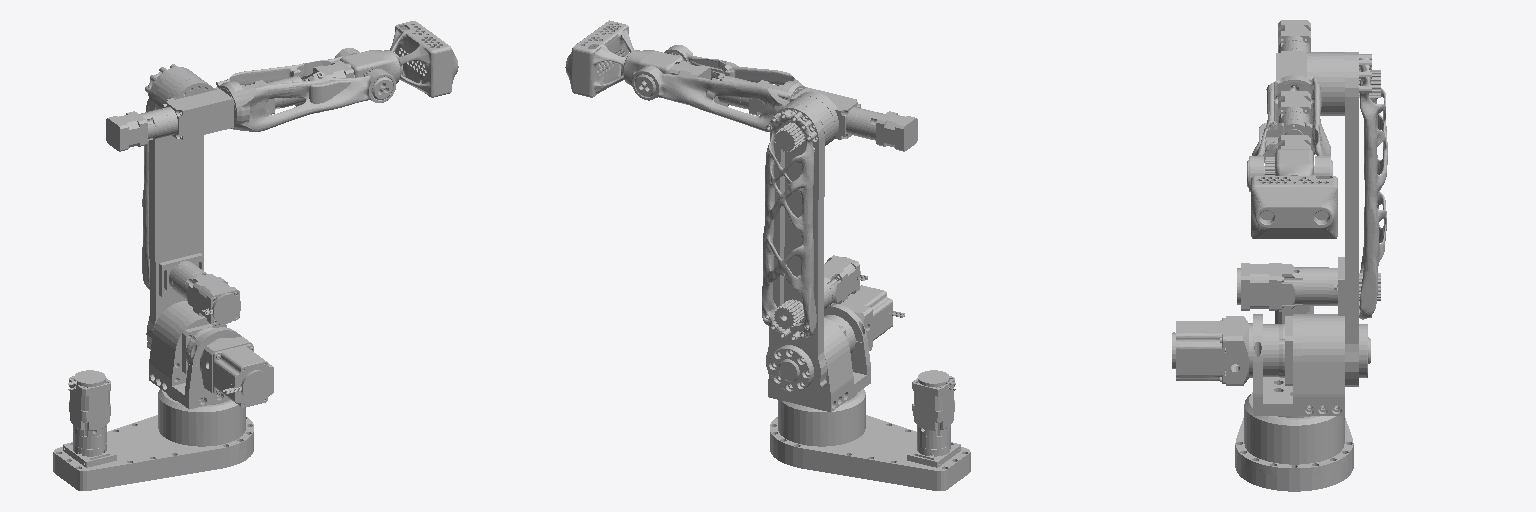
The robot description file, URDF, robot "camera_end_effector":
<?xml version="1.0" encoding="utf-8"?>
<!-- This URDF was automatically created by SolidWorks to URDF Exporter! Originally created by [author] ([email redacted]) 
     Commit Version: 1.6.0-4-g7f85cfe  Build Version: 1.6.7995.38578
     For more information, please see http://wiki.ros.org/sw_urdf_exporter -->
<robot
  name="camera_end_effector">
  <link
    name="base_link">
    <inertial>
      <origin
        xyz="-0.038799 0.039037 -5.6771E-08"
        rpy="0 0 0" />
      <mass
        value="4.037" />
      <inertia
        ixx="0.0047485"
        ixy="2.5452E-06"
        ixz="-6.9936E-08"
        iyy="0.015979"
        iyz="4.4737E-10"
        izz="0.01214" />
    </inertial>
    <visual>
      <origin
        xyz="0 0 0"
        rpy="0 0 0" />
      <geometry>
        <mesh
          filename="package://camera_end_effector/meshes/base_link.STL" />
      </geometry>
      <material
        name="">
        <color
          rgba="0.75294 0.75294 0.75294 1" />
      </material>
    </visual>
    <collision>
      <origin
        xyz="0 0 0"
        rpy="0 0 0" />
      <geometry>
        <mesh
          filename="package://camera_end_effector/meshes/base_link.STL" />
      </geometry>
    </collision>
  </link>
  <link
    name="j2">
    <inertial>
      <origin
        xyz="-0.021245 4.8231E-05 -0.10089"
        rpy="0 0 0" />
      <mass
        value="0.97731" />
      <inertia
        ixx="0.00070562"
        ixy="-1.9214E-07"
        ixz="2.8678E-06"
        iyy="0.00051951"
        iyz="3.1462E-07"
        izz="0.00067989" />
    </inertial>
    <visual>
      <origin
        xyz="0 0 0"
        rpy="0 0 0" />
      <geometry>
        <mesh
          filename="package://camera_end_effector/meshes/j2.STL" />
      </geometry>
      <material
        name="">
        <color
          rgba="0.75294 0.75294 0.75294 1" />
      </material>
    </visual>
    <collision>
      <origin
        xyz="0 0 0"
        rpy="0 0 0" />
      <geometry>
        <mesh
          filename="package://camera_end_effector/meshes/j2.STL" />
      </geometry>
    </collision>
  </link>
  <joint
    name="j2"
    type="revolute">
    <origin
      xyz="0 0 0.0059964"
      rpy="3.1416 0 1.5708" />
    <parent
      link="base_link" />
    <child
      link="j2" />
    <axis
      xyz="0 0 1" />
    <limit
      lower="1.57"
      upper="-1.57"
      effort="50"
      velocity="10" />
  </joint>
  <link
    name="j3">
    <inertial>
      <origin
        xyz="0.04498 -0.0012844 -0.12805"
        rpy="0 0 0" />
      <mass
        value="0.68518" />
      <inertia
        ixx="0.0044141"
        ixy="-1.7793E-07"
        ixz="-1.4273E-05"
        iyy="0.0041907"
        iyz="-3.7976E-05"
        izz="0.00033447" />
    </inertial>
    <visual>
      <origin
        xyz="0 0 0"
        rpy="0 0 0" />
      <geometry>
        <mesh
          filename="package://camera_end_effector/meshes/j3.STL" />
      </geometry>
      <material
        name="">
        <color
          rgba="0.75294 0.75294 0.75294 1" />
      </material>
    </visual>
    <collision>
      <origin
        xyz="0 0 0"
        rpy="0 0 0" />
      <geometry>
        <mesh
          filename="package://camera_end_effector/meshes/j3.STL" />
      </geometry>
    </collision>
  </link>
  <joint
    name="j3"
    type="revolute">
    <origin
      xyz="0 0 -0.134"
      rpy="0.0048055 0 0" />
    <parent
      link="j2" />
    <child
      link="j3" />
    <axis
      xyz="1 0 0" />
    <limit
      lower="1.57"
      upper="-1.57"
      effort="50"
      velocity="10" />
  </joint>
  <link
    name="j4">
    <inertial>
      <origin
        xyz="0.015213 -0.035076 1.974E-06"
        rpy="0 0 0" />
      <mass
        value="0.23302" />
      <inertia
        ixx="7.0267E-05"
        ixy="1.3165E-09"
        ixz="2.8292E-14"
        iyy="6.7939E-05"
        iyz="8.3323E-14"
        izz="6.51E-05" />
    </inertial>
    <visual>
      <origin
        xyz="0 0 0"
        rpy="0 0 0" />
      <geometry>
        <mesh
          filename="package://camera_end_effector/meshes/j4.STL" />
      </geometry>
      <material
        name="">
        <color
          rgba="0.75294 0.75294 0.75294 1" />
      </material>
    </visual>
    <collision>
      <origin
        xyz="0 0 0"
        rpy="0 0 0" />
      <geometry>
        <mesh
          filename="package://camera_end_effector/meshes/j4.STL" />
      </geometry>
    </collision>
  </link>
  <joint
    name="j4"
    type="revolute">
    <origin
      xyz="0 -0.0030947 -0.32199"
      rpy="-0.0048055 0 0" />
    <parent
      link="j3" />
    <child
      link="j4" />
    <axis
      xyz="1 0 0" />
    <limit
      lower="1.57"
      upper="-1.57"
      effort="50"
      velocity="10" />
  </joint>
  <link
    name="j5">
    <inertial>
      <origin
        xyz="-0.001844 0.10181 0.00027913"
        rpy="0 0 0" />
      <mass
        value="0.28259" />
      <inertia
        ixx="0.00065499"
        ixy="1.9322E-05"
        ixz="-1.3151E-06"
        iyy="0.00017713"
        iyz="8.4548E-07"
        izz="0.00074297" />
    </inertial>
    <visual>
      <origin
        xyz="0 0 0"
        rpy="0 0 0" />
      <geometry>
        <mesh
          filename="package://camera_end_effector/meshes/j5.STL" />
      </geometry>
      <material
        name="">
        <color
          rgba="0.75294 0.75294 0.75294 1" />
      </material>
    </visual>
    <collision>
      <origin
        xyz="0 0 0"
        rpy="0 0 0" />
      <geometry>
        <mesh
          filename="package://camera_end_effector/meshes/j5.STL" />
      </geometry>
    </collision>
  </link>
  <joint
    name="j5"
    type="revolute">
    <origin
      xyz="0 0 0"
      rpy="0 0 0" />
    <parent
      link="j4" />
    <child
      link="j5" />
    <axis
      xyz="0 1 0" />
    <limit
      lower="1.57"
      upper="-1.57"
      effort="50"
      velocity="10" />
  </joint>
  <link
    name="j6">
    <inertial>
      <origin
        xyz="-0.0013063 -0.0093348 -1.0804E-05"
        rpy="0 0 0" />
      <mass
        value="0.15216" />
      <inertia
        ixx="3.7125E-05"
        ixy="-1.2877E-06"
        ixz="5.119E-09"
        iyy="4.1674E-05"
        iyz="4.97E-08"
        izz="4.2099E-05" />
    </inertial>
    <visual>
      <origin
        xyz="0 0 0"
        rpy="0 0 0" />
      <geometry>
        <mesh
          filename="package://camera_end_effector/meshes/j6.STL" />
      </geometry>
      <material
        name="">
        <color
          rgba="0.75294 0.75294 0.75294 1" />
      </material>
    </visual>
    <collision>
      <origin
        xyz="0 0 0"
        rpy="0 0 0" />
      <geometry>
        <mesh
          filename="package://camera_end_effector/meshes/j6.STL" />
      </geometry>
    </collision>
  </link>
  <joint
    name="j6"
    type="revolute">
    <origin
      xyz="0 0.23275 0"
      rpy="0 0 0" />
    <parent
      link="j5" />
    <child
      link="j6" />
    <axis
      xyz="1 0 0" />
    <limit
      lower="1.57"
      upper="-1.57"
      effort="50"
      velocity="10" />
  </joint>
  <link
    name="endeff">
    <inertial>
      <origin
        xyz="1.5444E-06 0.056892 -0.00079142"
        rpy="0 0 0" />
      <mass
        value="0.10798" />
      <inertia
        ixx="6.8661E-05"
        ixy="2.9596E-08"
        ixz="-3.5618E-07"
        iyy="0.00011054"
        iyz="5.6337E-07"
        izz="0.00010565" />
    </inertial>
    <visual>
      <origin
        xyz="0 0 0"
        rpy="0 0 0" />
      <geometry>
        <mesh
          filename="package://camera_end_effector/meshes/endeff.STL" />
      </geometry>
      <material
        name="">
        <color
          rgba="0.75294 0.75294 0.75294 1" />
      </material>
    </visual>
    <collision>
      <origin
        xyz="0 0 0"
        rpy="0 0 0" />
      <geometry>
        <mesh
          filename="package://camera_end_effector/meshes/endeff.STL" />
      </geometry>
    </collision>
  </link>
  <joint
    name="endeff"
    type="revolute">
    <origin
      xyz="0 0.02775 0"
      rpy="0 0 0" />
    <parent
      link="j6" />
    <child
      link="endeff" />
    <axis
      xyz="0 1 0" />
    <limit
      lower="1.57"
      upper="-1.57"
      effort="50"
      velocity="10" />
  </joint>
</robot>

--- Render facts (derived) ---
Views: 3 orthographic renders of the robot side by side, from view 1: azimuth 30°, elevation 25°; view 2: azimuth 150°, elevation 25°; view 3: azimuth 270°, elevation 25°.
Model camera_end_effector with 7 links and 6 joints (6 revolute), rooted at base_link, posed every joint at zero.
Links seen in each view (by area): view 1: base_link, j3, j2, j5, j4, endeff, j6; view 2: j3, base_link, j5, j2, j4, endeff, j6; view 3: j3, j2, base_link, endeff, j5, j4, j6.
Boxes of the visible links, x1=… form: base_link: x1=53, y1=370, x2=253, y2=490; j3: x1=142, y1=64, x2=240, y2=349; j2: x1=149, y1=301, x2=273, y2=409; j5: x1=216, y1=48, x2=395, y2=131; j4: x1=106, y1=79, x2=233, y2=151; endeff: x1=390, y1=21, x2=458, y2=97; j6: x1=313, y1=50, x2=400, y2=99; j3: x1=762, y1=96, x2=867, y2=396; base_link: x1=770, y1=370, x2=970, y2=490; j5: x1=632, y1=45, x2=805, y2=131; j2: x1=768, y1=285, x2=904, y2=411; j4: x1=774, y1=87, x2=917, y2=151; endeff: x1=565, y1=20, x2=633, y2=97; j6: x1=623, y1=50, x2=710, y2=96; j3: x1=1237, y1=52, x2=1387, y2=386; j2: x1=1172, y1=314, x2=1344, y2=417; base_link: x1=1235, y1=306, x2=1353, y2=491; endeff: x1=1251, y1=175, x2=1337, y2=238; j5: x1=1249, y1=75, x2=1330, y2=191; j4: x1=1276, y1=20, x2=1380, y2=115; j6: x1=1247, y1=135, x2=1332, y2=187.
Size in the robot's own frame: 0.5425 by 0.2375 by 0.497 metres.
7 mesh visuals loaded from 7 distinct referenced files (7 binary STL).